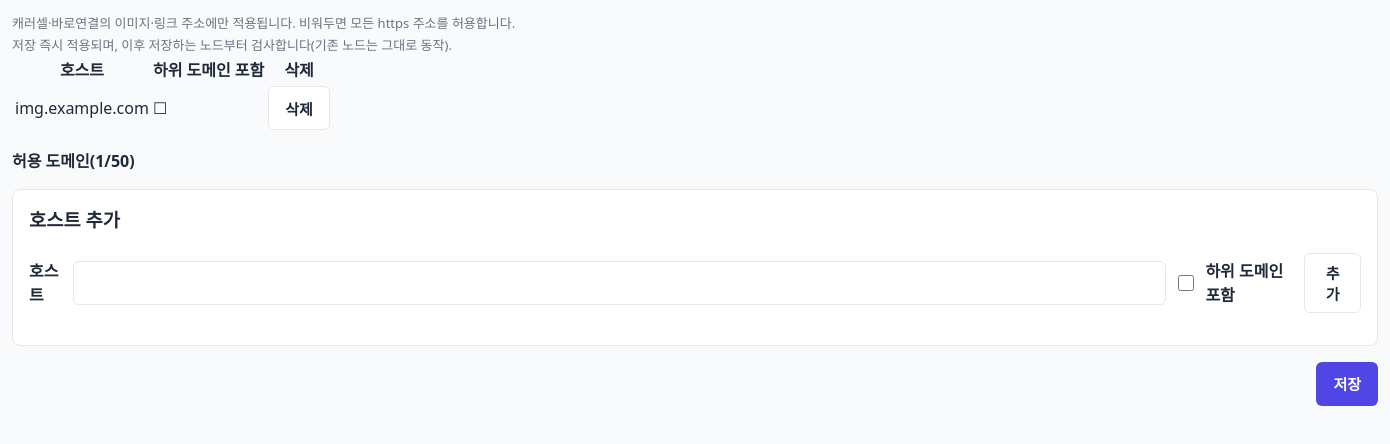
Test case: RichUrlPolicySection — RM-5(§3.5) › 중복 호스트는 거부된다
Expected: the text "img.example.com" is shown, [14,85,150,131]
Type "img.example.com" into the field labelled "호스트" at (620, 283), box [73,261,1166,305]
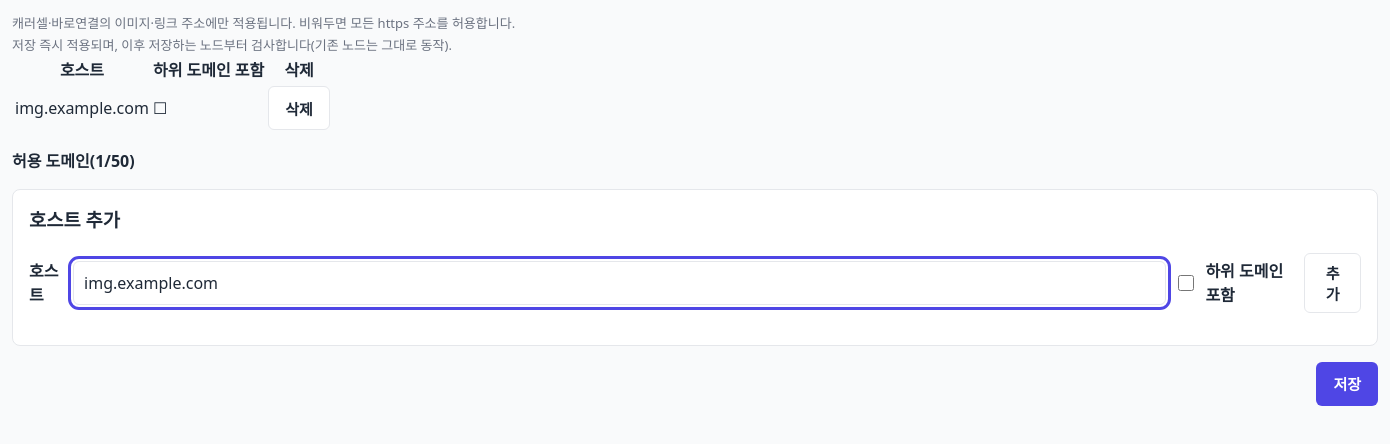
Click the button "추가" at (1333, 283), box [1304,253,1361,313]
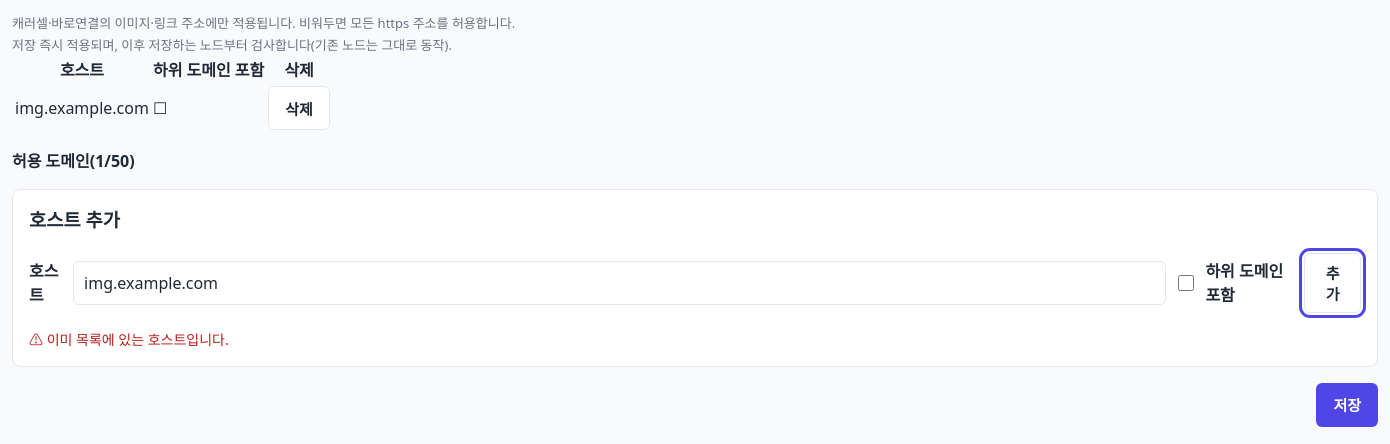
Expected: the text "이미 목록에 있는 호스트입니다." is shown, [47,330,229,349]
